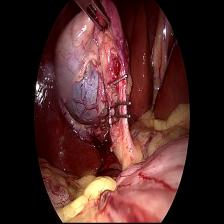Grasper: (72, 1, 113, 33)
